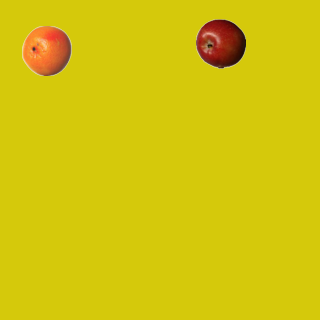Apple Braeburn: (195, 18, 245, 68)
Grapefruit Pink: (21, 25, 71, 75)
